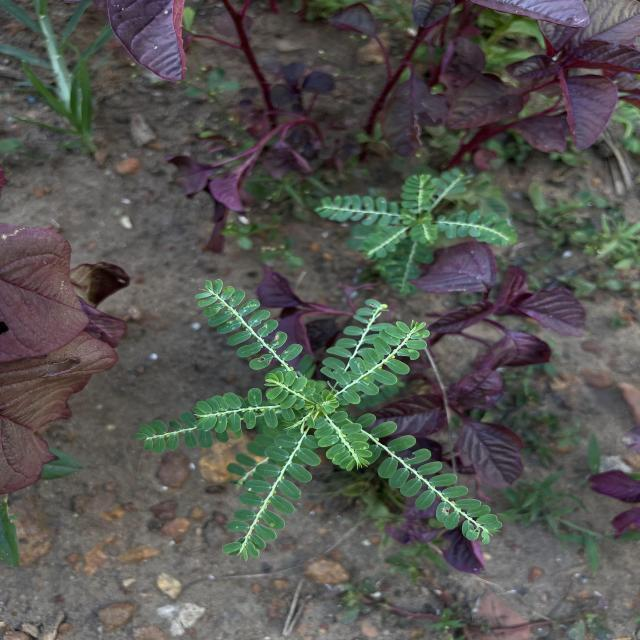Phyllanthus niruri: (352, 410, 504, 542), (220, 428, 322, 564), (191, 276, 303, 372), (334, 319, 432, 407), (190, 386, 294, 432), (314, 409, 374, 471), (262, 368, 316, 411)
